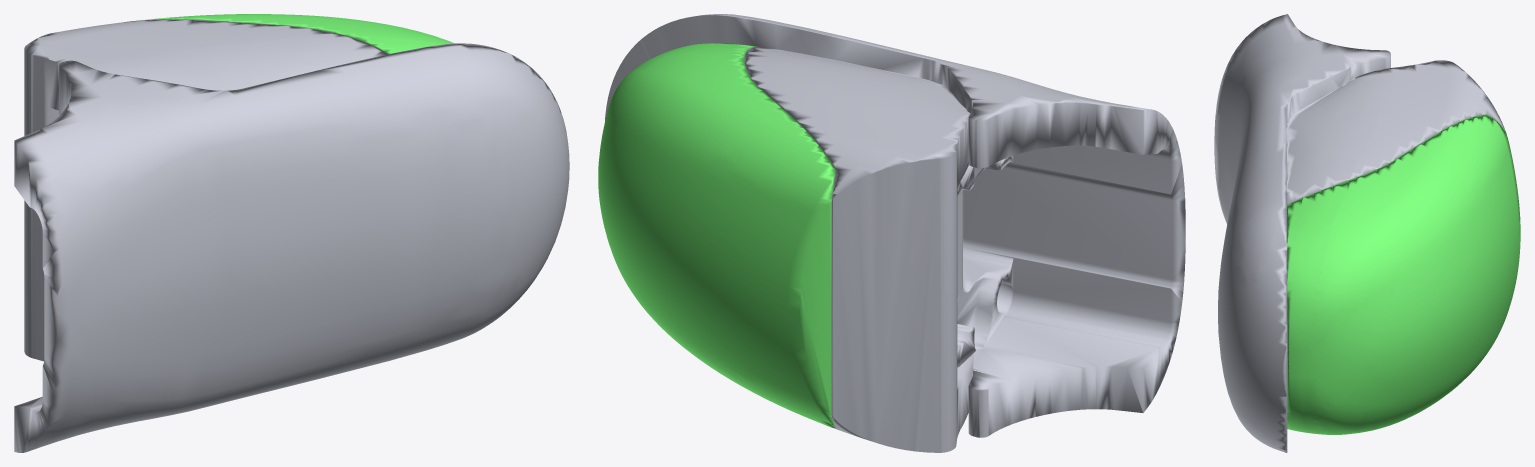
File: left_thumb_DP.glb
3 renders of one model, left to right at view 1: azimuth 30°, elevation 25°; view 2: azimuth 150°, elevation 25°; view 3: azimuth 270°, elevation 25°, orthographic. The views are drawn at different scales.
Size of the model in its own units: 0.0324 by 0.0182 by 0.0184.
